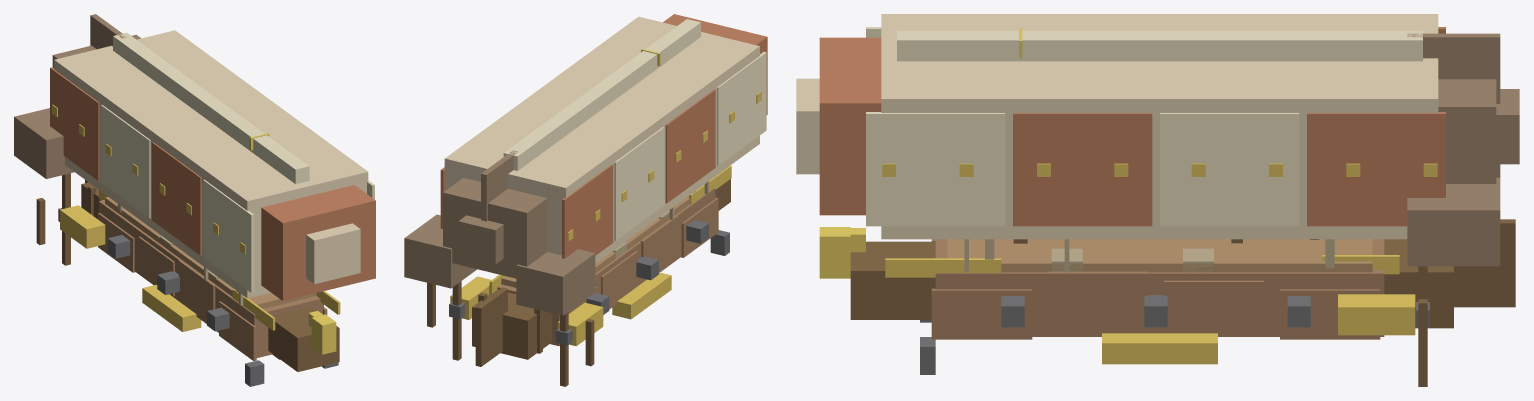
The model's file is airship_fantasy.gltf.
3 views of the same model, side by side, from view 1: azimuth 30°, elevation 25°; view 2: azimuth 150°, elevation 25°; view 3: azimuth 270°, elevation 25° (orthographic). The views are drawn at different scales.
Parts seen in each view (by area): view 1: balloon_main, balloon_fore, balloon_top_ridge, balloon_panel_L4, balloon_panel_L2, balloon_panel_L3, balloon_panel_L1, hull_main, balloon_fore_tip, fin_port, hull_prow, hull_deck (+16 smaller); view 2: balloon_main, balloon_aft, balloon_top_ridge, fin_port, balloon_panel_L3, balloon_panel_L2, balloon_panel_L4, balloon_panel_L1, fin_stbd, hull_stern, rudder, balloon_aft_tip (+19 smaller); view 3: balloon_main, balloon_top_ridge, balloon_panel_R4, balloon_panel_R2, balloon_panel_R3, balloon_panel_R1, hull_deck, balloon_fore, hull_main, fin_stbd, balloon_aft, hull_prow (+20 smaller).
Part boxes in pixels (<box>): balloon_main: <box>54,30,368,298</box>; balloon_fore: <box>261,185,375,300</box>; balloon_top_ridge: <box>113,32,309,184</box>; balloon_panel_L4: <box>203,179,254,292</box>; balloon_panel_L2: <box>101,105,150,218</box>; balloon_panel_L3: <box>152,142,201,255</box>; balloon_panel_L1: <box>50,67,99,180</box>; hull_main: <box>98,199,323,357</box>; balloon_fore_tip: <box>306,223,360,284</box>; fin_port: <box>14,108,74,178</box>; hull_prow: <box>268,306,339,371</box>; hull_deck: <box>105,197,316,308</box>; balloon_main: <box>444,16,759,263</box>; balloon_aft: <box>443,178,547,278</box>; balloon_top_ridge: <box>503,19,700,170</box>; fin_port: <box>516,249,595,315</box>; balloon_panel_L3: <box>665,89,715,203</box>; balloon_panel_L2: <box>614,127,664,240</box>; balloon_panel_L4: <box>717,51,766,165</box>; balloon_panel_L1: <box>562,164,613,258</box>; fin_stbd: <box>404,214,476,288</box>; hull_stern: <box>472,289,552,359</box>; rudder: <box>475,287,507,366</box>; balloon_aft_tip: <box>458,215,503,264</box>; balloon_main: <box>881,14,1438,239</box>; balloon_top_ridge: <box>897,30,1422,61</box>; balloon_panel_R4: <box>866,112,1005,226</box>; balloon_panel_R2: <box>1160,113,1299,226</box>; balloon_panel_R3: <box>1013,113,1152,226</box>; balloon_panel_R1: <box>1307,112,1445,226</box>; hull_deck: <box>947,239,1372,272</box>; balloon_fore: <box>819,37,881,215</box>; hull_main: <box>935,239,1384,336</box>; fin_stbd: <box>1407,177,1500,266</box>; balloon_aft: <box>1438,79,1496,183</box>; hull_prow: <box>850,241,935,319</box>.
Size of the model in its own units: 28.16 by 35.72 by 74.8.
